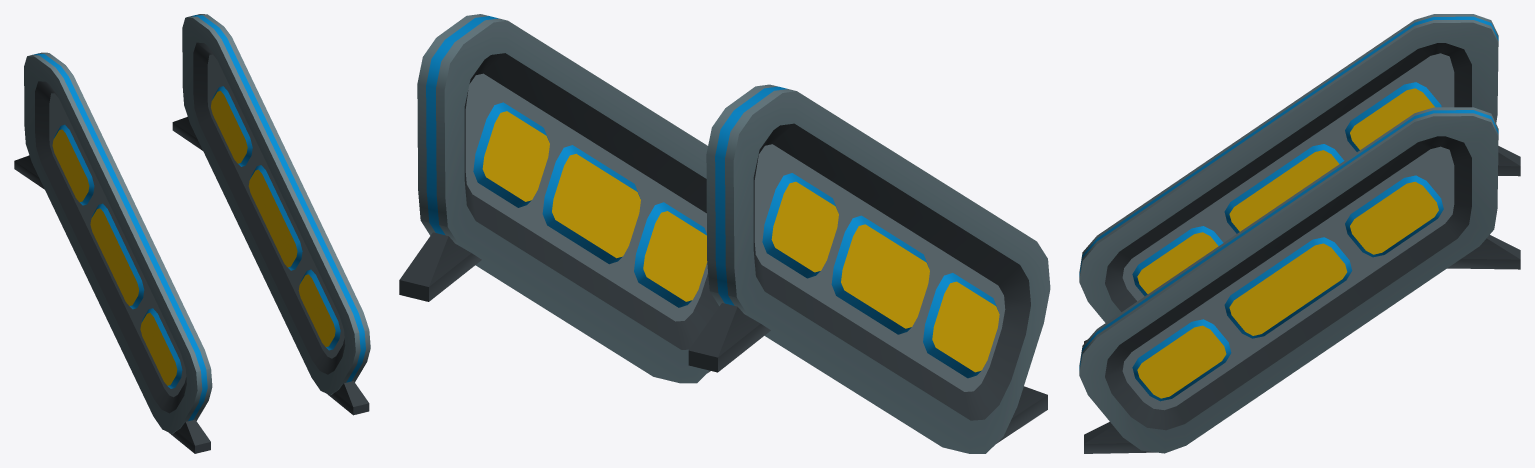
File: Stair_type_C_fence_001.fbx
3 renders of one model, left to right at view 1: azimuth 30°, elevation 25°; view 2: azimuth 150°, elevation 25°; view 3: azimuth 270°, elevation 25°, orthographic. The views are drawn at different scales.
Visible parts, largest first — view 1: Stair_type_C_fence_001; view 2: Stair_type_C_fence_001; view 3: Stair_type_C_fence_001.
Boxes of the visible parts, x1,y1,x2,y2 form: Stair_type_C_fence_001: (14,14,370,453); Stair_type_C_fence_001: (399,14,1050,453); Stair_type_C_fence_001: (1079,14,1520,453).
Size of the model in its own units: 179 by 326 by 275.
